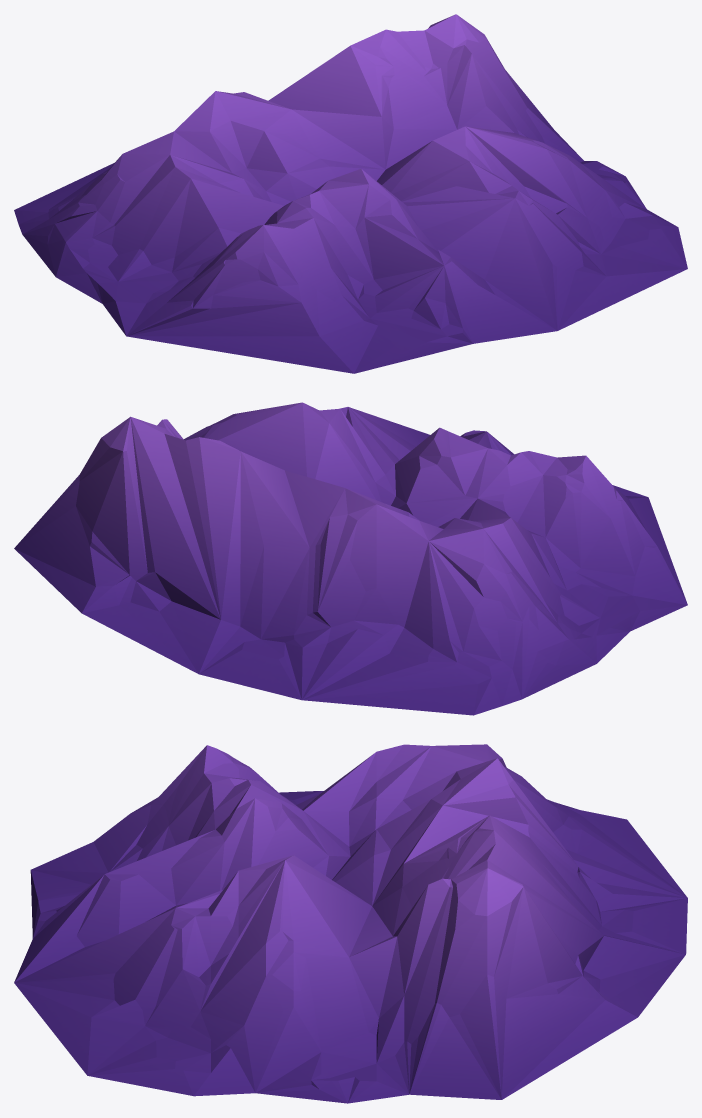
The model's file is Night_Mountain_004.FBX.
The picture shows the model from 3 angles, top to bottom: view 1: azimuth 30°, elevation 25°; view 2: azimuth 150°, elevation 25°; view 3: azimuth 270°, elevation 25°; orthographic projection. The views are drawn at different scales.
Parts seen in each view (by area): view 1: Night_Mountain_004; view 2: Night_Mountain_004; view 3: Night_Mountain_004.
Boxes of the visible parts, x1=… form: Night_Mountain_004: x1=14, y1=14, x2=687, y2=373; Night_Mountain_004: x1=14, y1=402, x2=687, y2=715; Night_Mountain_004: x1=14, y1=744, x2=687, y2=1103.
Size of the model in its own units: 3694 by 955 by 3394.
Materials: 1 (1 with a texture image).
